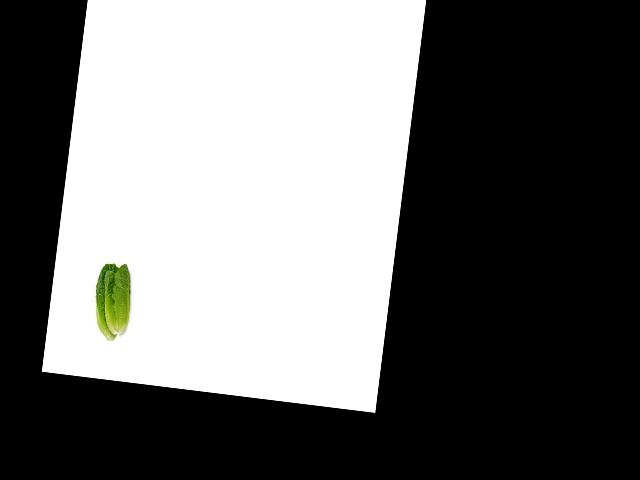lettuce: (90, 260, 140, 342)
